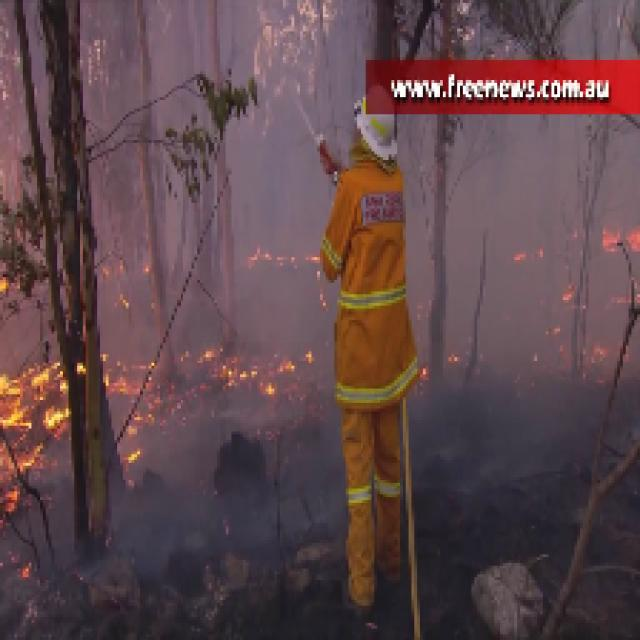fire: (0, 349, 63, 494)
smoke: (455, 150, 550, 308)
